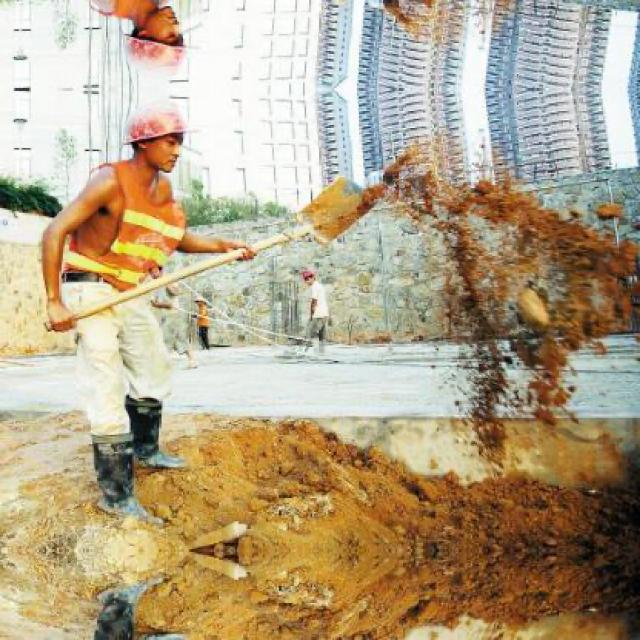helmet: (120, 100, 195, 176), (120, 5, 195, 80), (300, 268, 317, 288)
